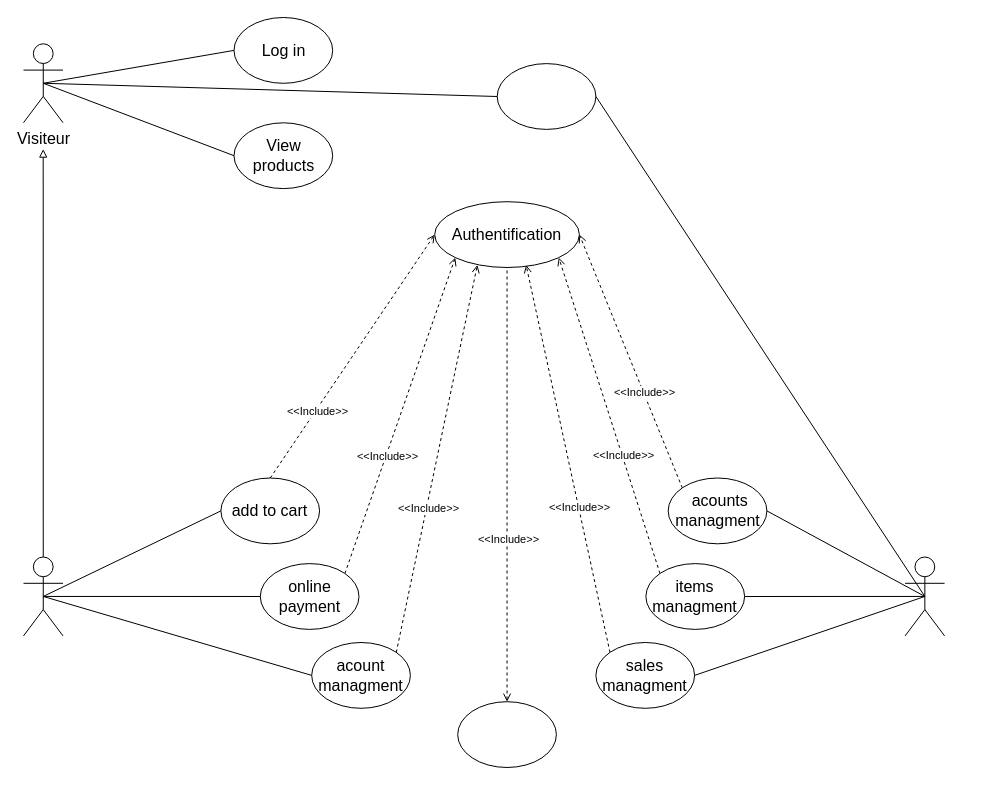
Image size: 994x785. Some labels were removed from this diagram. The shapes that lost their labels are listed below. From the top down, each one's centre as x and y in pixels, then its label:
At (x=546, y=96): "Send messages".
At (x=42, y=596): "Client".
At (x=924, y=596): "Administrateur".
At (x=506, y=734): "BaseDone".
